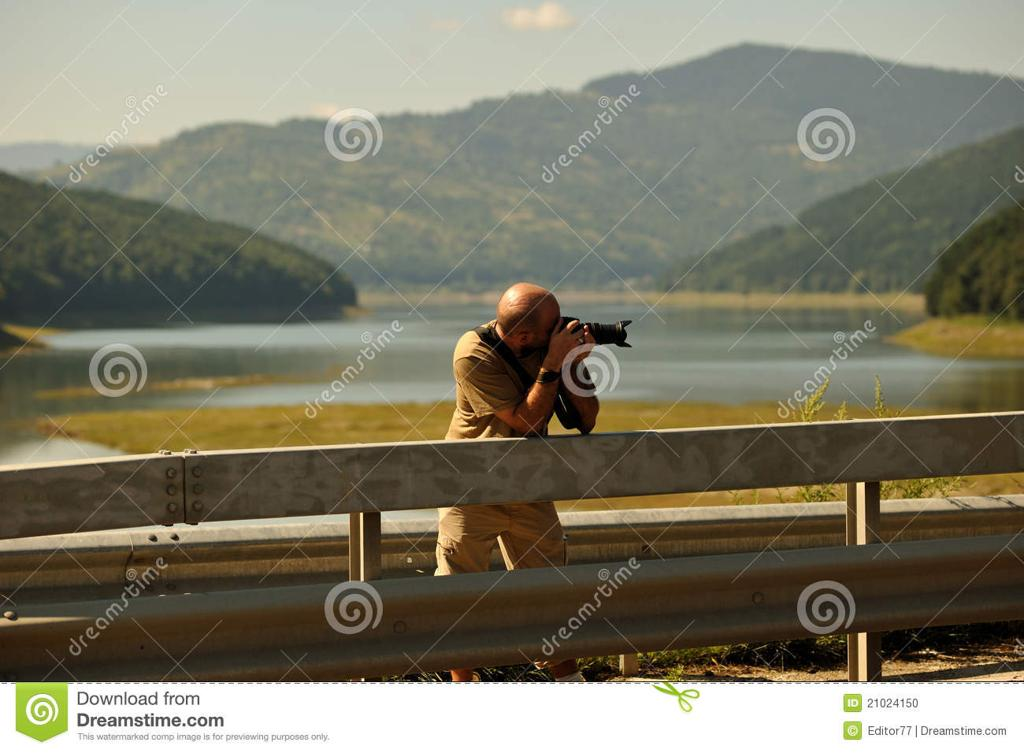face: (530, 292, 560, 348)
